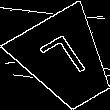L_SE: (37, 32, 94, 90)
